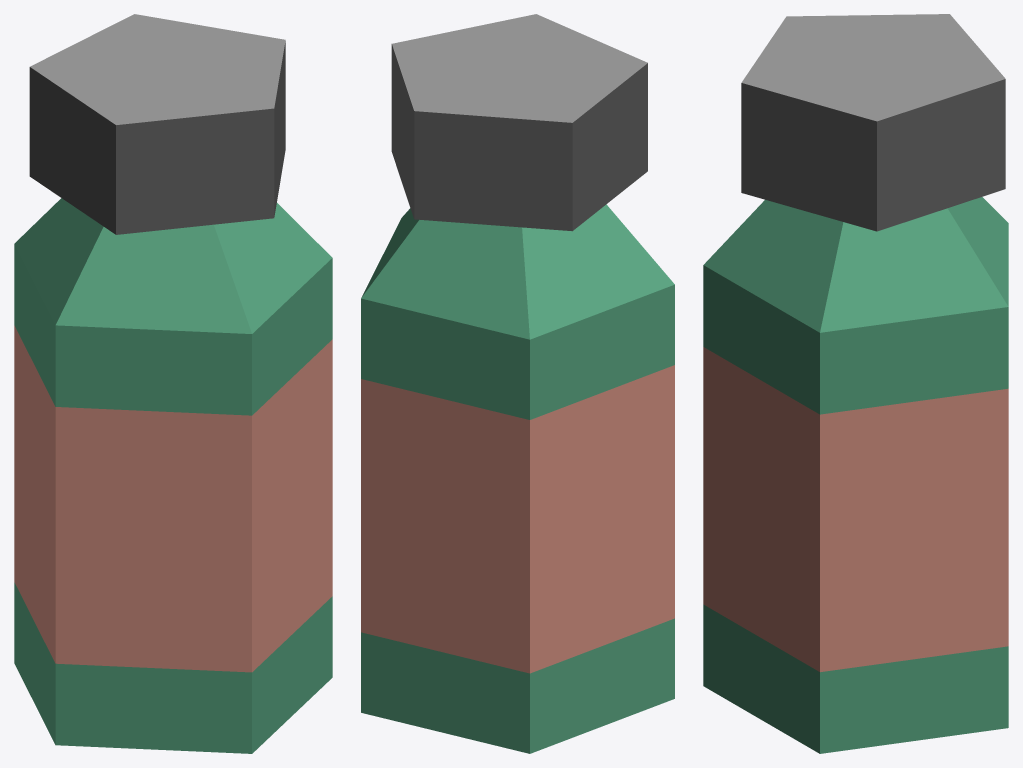
File: TB_D_Prop_Bottle_Small_C.FBX
3 views of the same model, side by side, from view 1: azimuth 30°, elevation 25°; view 2: azimuth 150°, elevation 25°; view 3: azimuth 270°, elevation 25° (orthographic).
Visible parts, largest first — view 1: TB_D_Prop_Bottle_Small_C; view 2: TB_D_Prop_Bottle_Small_C; view 3: TB_D_Prop_Bottle_Small_C.
Part boxes in pixels (left/top/right/bottom): TB_D_Prop_Bottle_Small_C: left=14, top=14, right=332, bottom=753; TB_D_Prop_Bottle_Small_C: left=361, top=14, right=674, bottom=753; TB_D_Prop_Bottle_Small_C: left=703, top=14, right=1008, bottom=753.
Bounding box in the file's own units: 0.2856 × 0.6123 × 0.2716.
